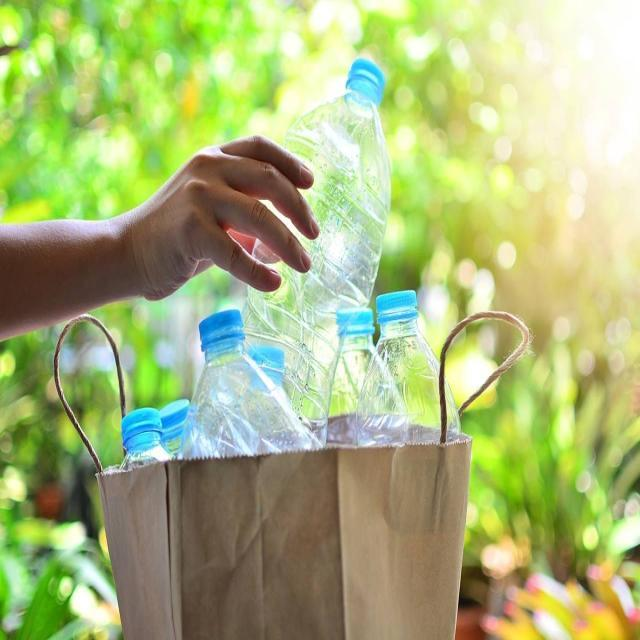Plastic: (241, 58, 391, 431), (176, 309, 321, 460), (360, 290, 442, 447), (327, 310, 410, 448)
